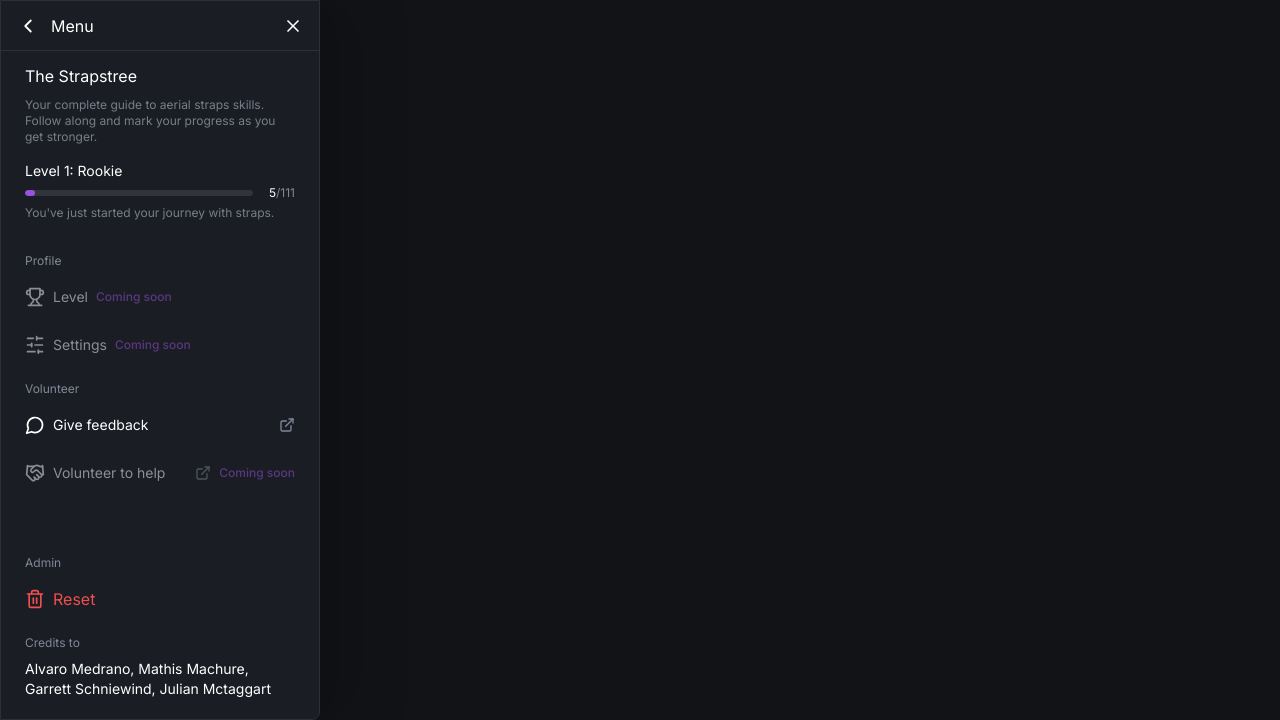
it: Menu › shows reset confirmation when Reset is clicked
Step 1. Click the button "Reset" → (74, 599), box [13, 579, 307, 619]
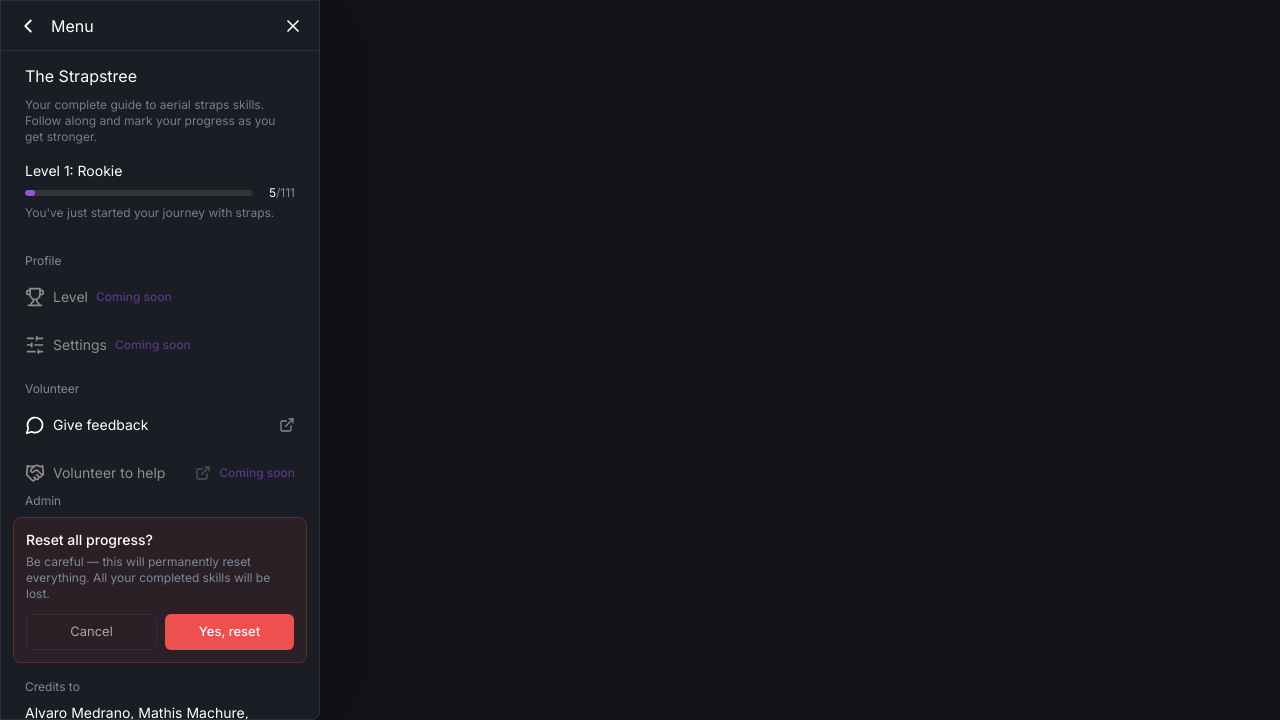
Check: the text "Reset all progress?" is shown, box [26, 531, 153, 548]
Check: the text "Be careful" is shown, box [26, 554, 270, 601]
Check: the button "Yes, reset" is shown, box [165, 614, 294, 650]
